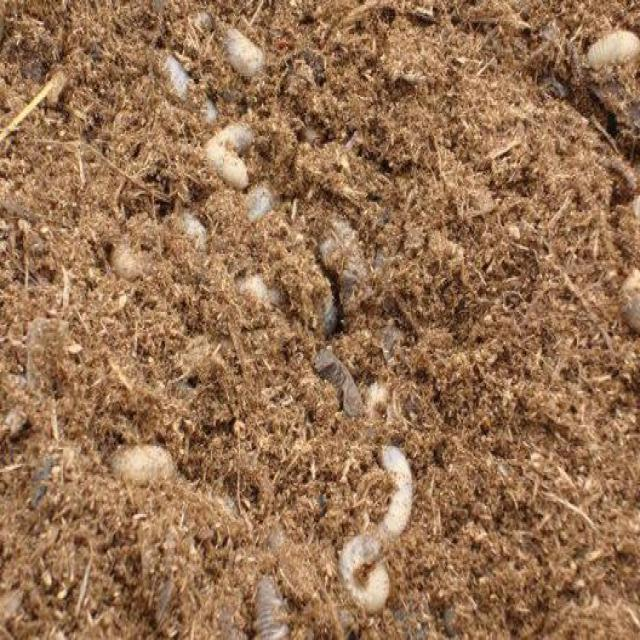Grub-Adult-: (330, 435, 424, 623), (97, 418, 195, 504), (198, 121, 255, 196)
